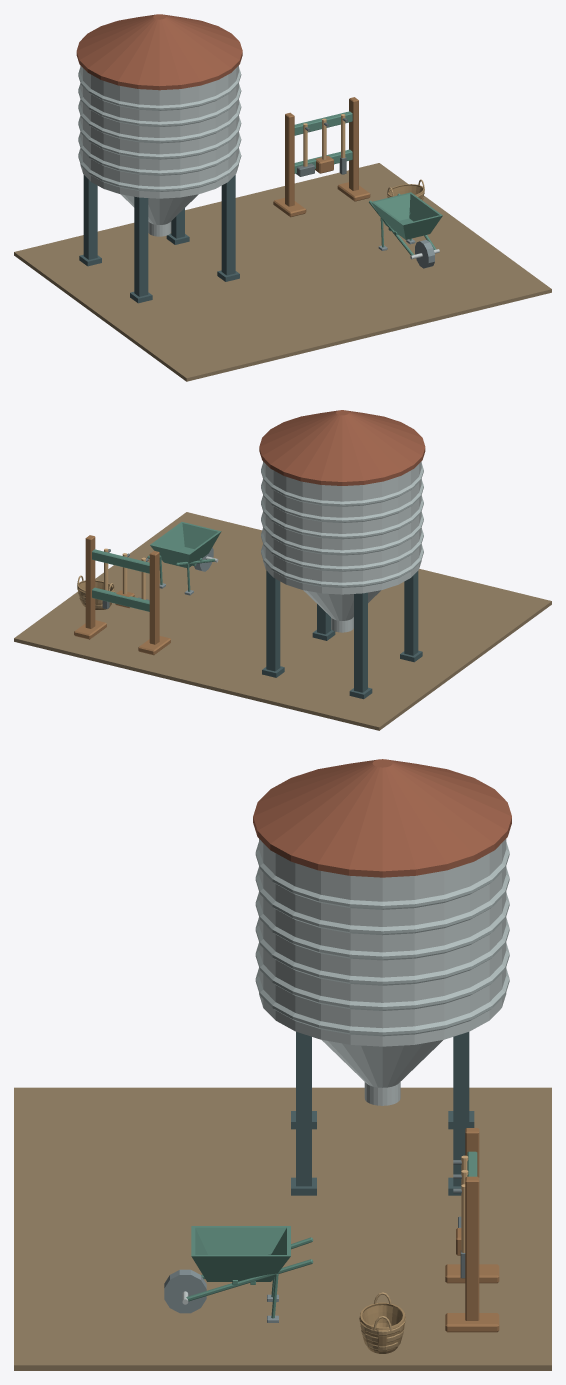
3 views of the same model, one above another, from view 1: azimuth 30°, elevation 25°; view 2: azimuth 150°, elevation 25°; view 3: azimuth 270°, elevation 25° (orthographic). The views are drawn at different scales.
Visible parts, largest first — view 1: SCENE_ONLY__SupportFloor, grain_silo__ContinuousRibbedCylinderHopperAndOutlet, grain_silo__CompleteThickConicalRoof, service_tool_rack__village-tool-rack-01, parked_barrow__construction-wheelbarrow-01, grain_silo__SquareSupportLeg_0, grain_silo__SquareSupportLeg_1, grain_silo__SquareSupportLeg_3; view 2: SCENE_ONLY__SupportFloor, grain_silo__ContinuousRibbedCylinderHopperAndOutlet, grain_silo__CompleteThickConicalRoof, service_tool_rack__village-tool-rack-01, parked_barrow__construction-wheelbarrow-01, grain_silo__SquareSupportLeg_2, grain_silo__SquareSupportLeg_3, grain_silo__SquareSupportLeg_0, empty_harvest_basket__village-open-harvest-basket-01; view 3: SCENE_ONLY__SupportFloor, grain_silo__ContinuousRibbedCylinderHopperAndOutlet, grain_silo__CompleteThickConicalRoof, parked_barrow__construction-wheelbarrow-01, service_tool_rack__village-tool-rack-01, grain_silo__SquareSupportLeg_1, grain_silo__SquareSupportLeg_2, empty_harvest_basket__village-open-harvest-basket-01.
Boxes of the visible parts, x1=… form: SCENE_ONLY__SupportFloor: x1=14, y1=163, x2=551, y2=381; grain_silo__ContinuousRibbedCylinderHopperAndOutlet: x1=78, y1=65, x2=241, y2=236; grain_silo__CompleteThickConicalRoof: x1=76, y1=14, x2=242, y2=90; service_tool_rack__village-tool-rack-01: x1=273, y1=97, x2=370, y2=217; parked_barrow__construction-wheelbarrow-01: x1=369, y1=192, x2=442, y2=268; grain_silo__SquareSupportLeg_0: x1=134, y1=196, x2=148, y2=296; grain_silo__SquareSupportLeg_1: x1=221, y1=175, x2=235, y2=275; grain_silo__SquareSupportLeg_3: x1=83, y1=175, x2=97, y2=259; SCENE_ONLY__SupportFloor: x1=14, y1=512, x2=551, y2=730; grain_silo__ContinuousRibbedCylinderHopperAndOutlet: x1=261, y1=461, x2=423, y2=632; grain_silo__CompleteThickConicalRoof: x1=259, y1=410, x2=425, y2=485; service_tool_rack__village-tool-rack-01: x1=74, y1=535, x2=170, y2=655; parked_barrow__construction-wheelbarrow-01: x1=147, y1=522, x2=221, y2=595; grain_silo__SquareSupportLeg_2: x1=266, y1=570, x2=280, y2=671; grain_silo__SquareSupportLeg_3: x1=354, y1=592, x2=367, y2=692; grain_silo__SquareSupportLeg_0: x1=404, y1=571, x2=418, y2=655; empty_harvest_basket__village-open-harvest-basket-01: x1=77, y1=575, x2=114, y2=609; SCENE_ONLY__SupportFloor: x1=14, y1=1087, x2=551, y2=1370; grain_silo__ContinuousRibbedCylinderHopperAndOutlet: x1=255, y1=839, x2=509, y2=1105; grain_silo__CompleteThickConicalRoof: x1=253, y1=759, x2=511, y2=877; parked_barrow__construction-wheelbarrow-01: x1=164, y1=1226, x2=313, y2=1322; service_tool_rack__village-tool-rack-01: x1=445, y1=1128, x2=499, y2=1332; grain_silo__SquareSupportLeg_1: x1=296, y1=1031, x2=311, y2=1186; grain_silo__SquareSupportLeg_2: x1=453, y1=1032, x2=469, y2=1186; empty_harvest_basket__village-open-harvest-basket-01: x1=359, y1=1292, x2=405, y2=1353.
Bounding box in the file's own units: 6.6 × 4.42 × 5.4.
